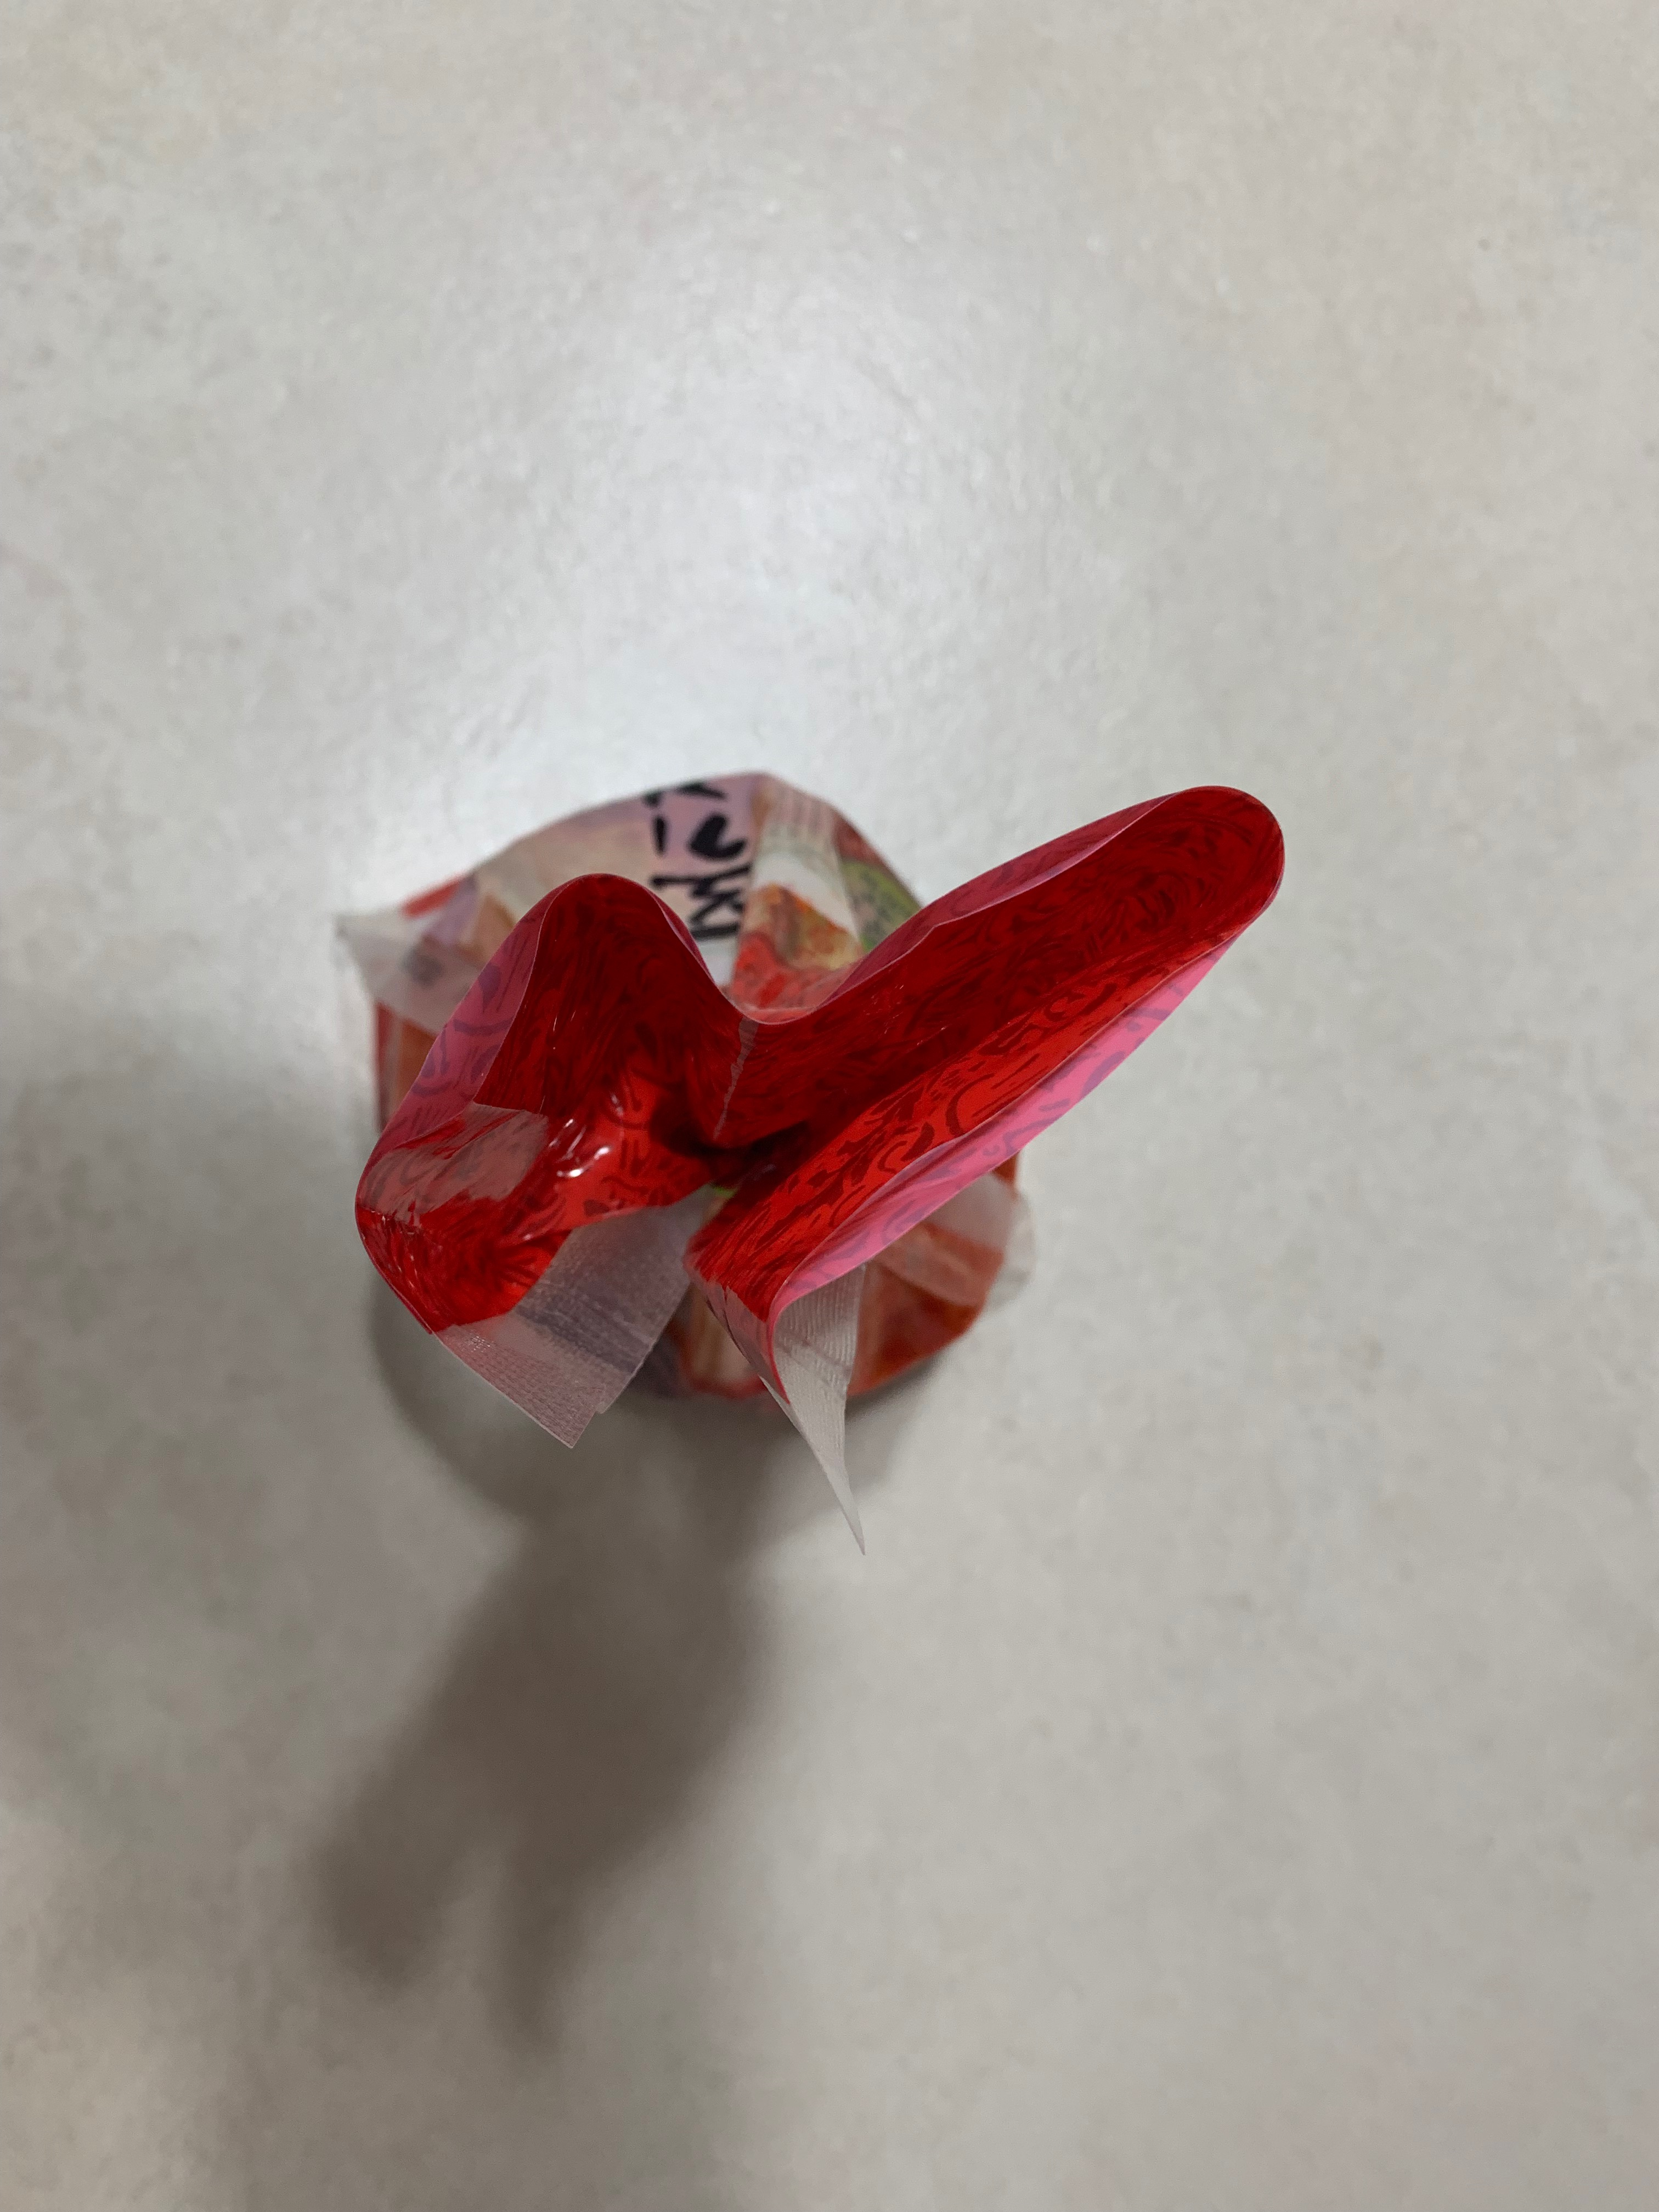kimchi: (357, 768, 1293, 1416)
